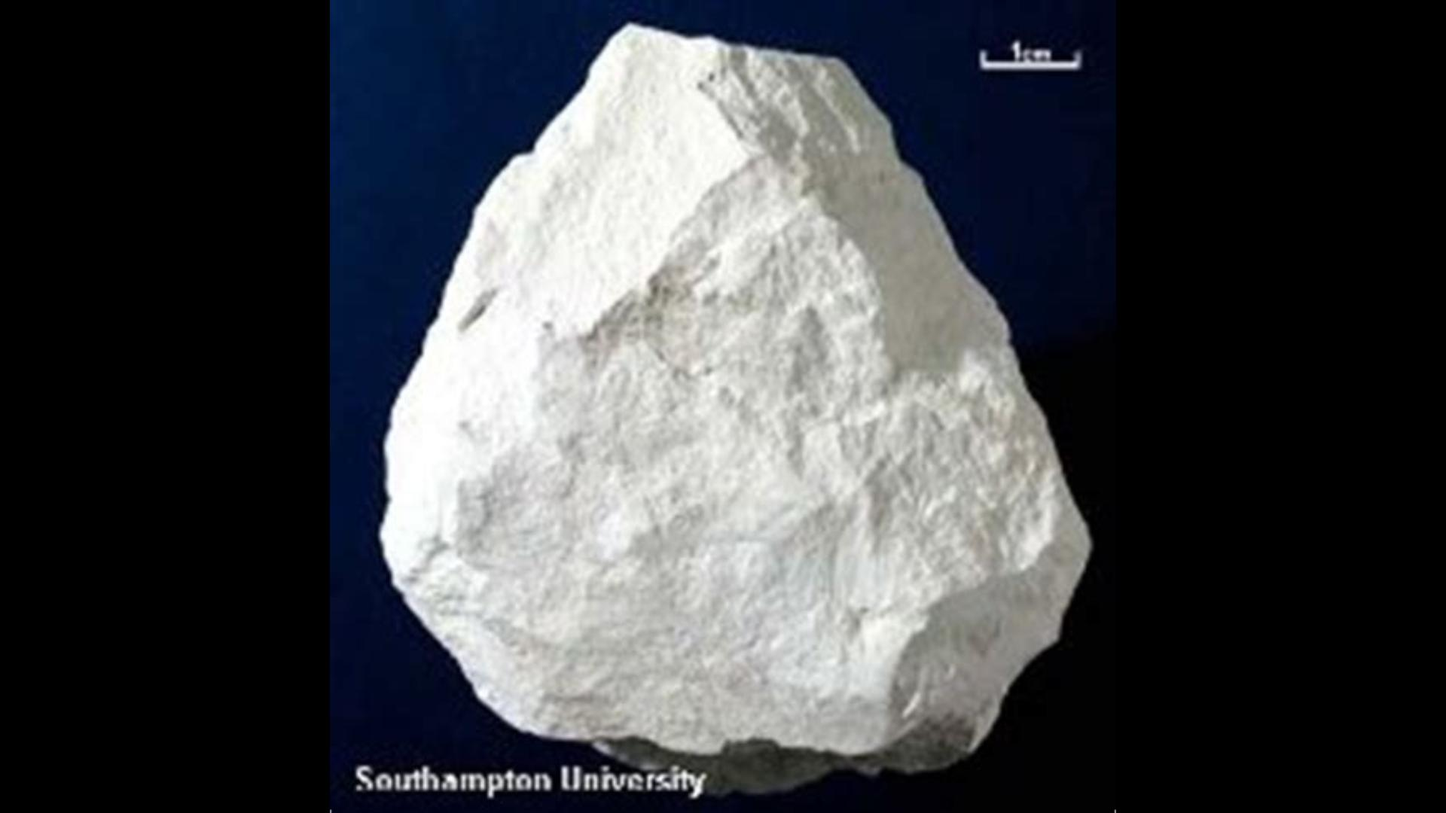rock: (380, 25, 1090, 788)
